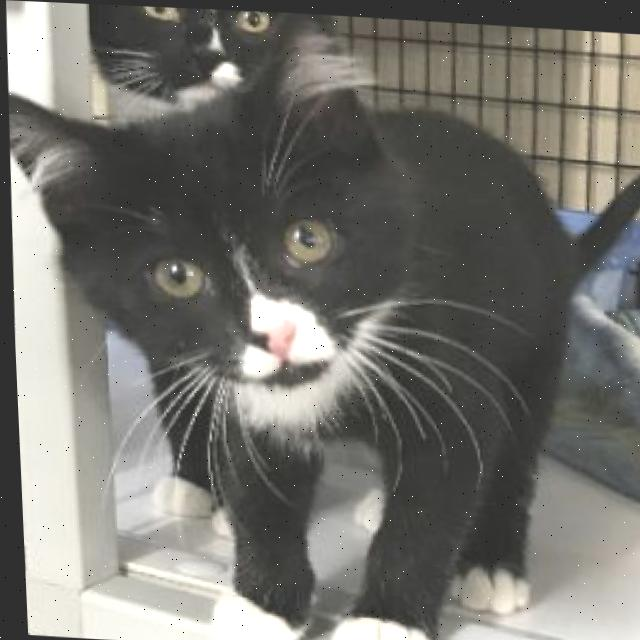Tuxedo: (0, 0, 640, 640), (76, 3, 331, 119)
